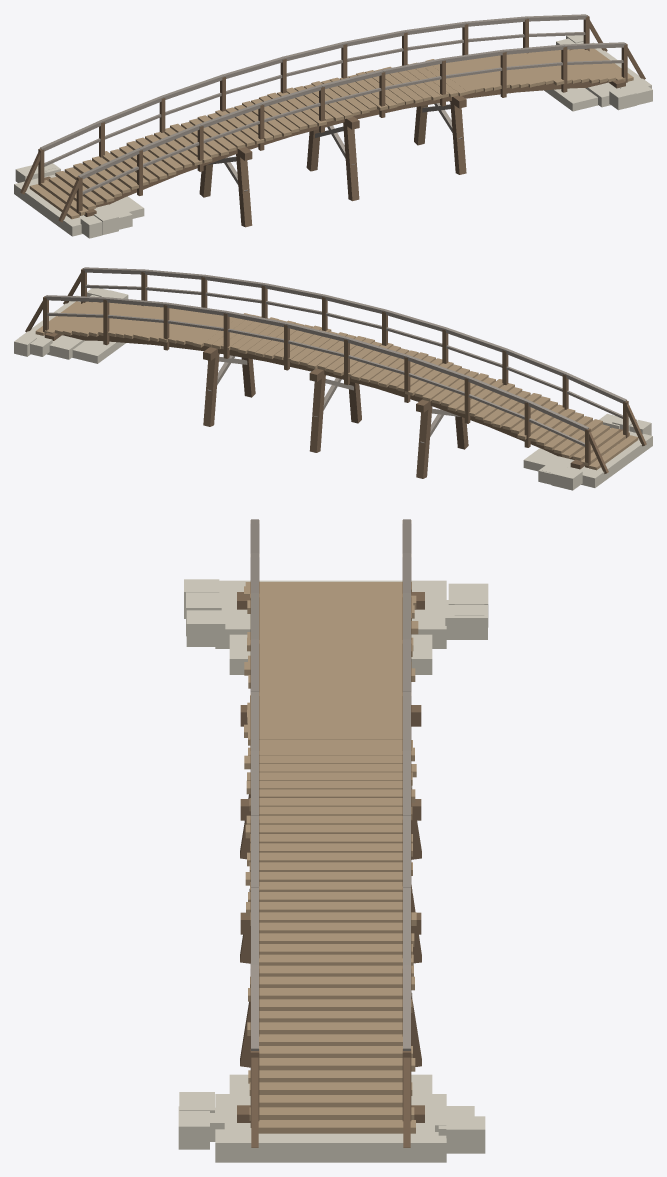
The model's file is footbridge.glb.
3 renders of one model, top to bottom at view 1: azimuth 30°, elevation 25°; view 2: azimuth 150°, elevation 25°; view 3: azimuth 270°, elevation 25°, orthographic. The views are drawn at different scales.
Visible parts, largest first — view 1: Footbridge; view 2: Footbridge; view 3: Footbridge.
Boxes of the visible parts, <box> form: Footbridge: <box>14,14,652,238</box>; Footbridge: <box>14,267,652,490</box>; Footbridge: <box>178,519,488,1162</box>.
Size of the model in its own units: 18.59 by 3.66 by 4.28.
